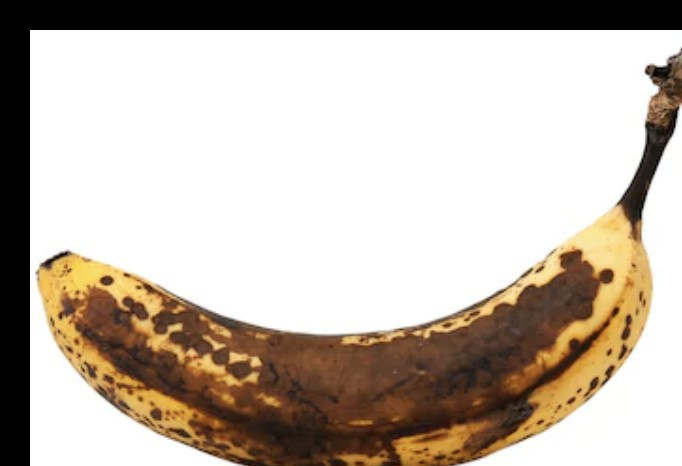rotten_banana: (38, 116, 656, 466)
